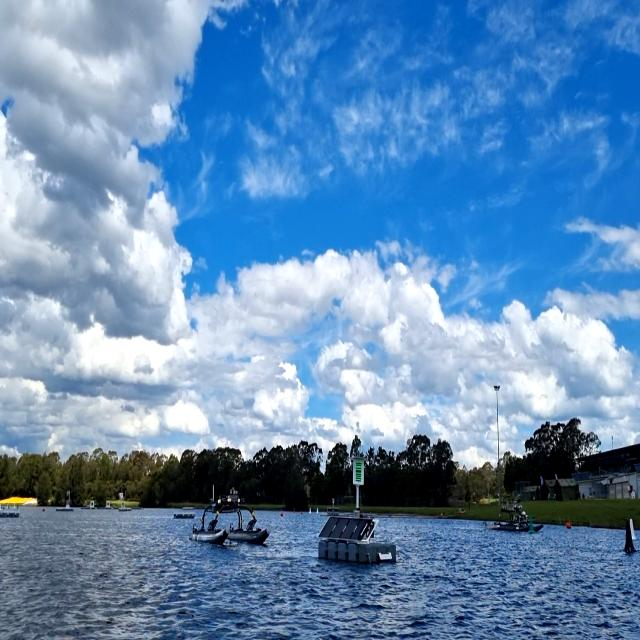led: (354, 461, 363, 482)
